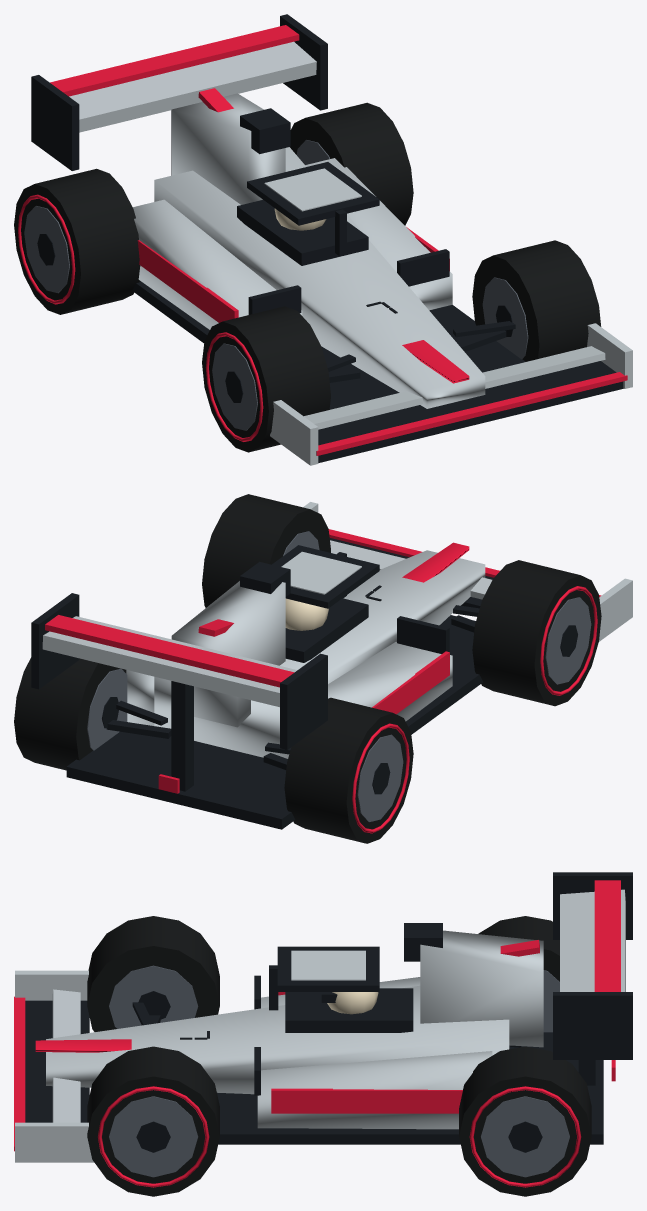
Rendered from apex-07.glb.
The picture shows the model from 3 angles, top to bottom: view 1: azimuth 30°, elevation 25°; view 2: azimuth 150°, elevation 25°; view 3: azimuth 270°, elevation 25°; orthographic projection.
Parts seen in each view (by area): view 1: formula-7, wheel (×4); view 2: formula-7, wheel (×4); view 3: formula-7, wheel (×4).
Part boxes in pixels (<box>): formula-7: <box>31,14,632,465</box>; wheel (×4): <box>14,102,601,452</box>; formula-7: <box>31,502,632,829</box>; wheel (×4): <box>14,494,601,843</box>; formula-7: <box>14,872,632,1162</box>; wheel (×4): <box>87,916,591,1196</box>.
Bounding box in the file's own units: 3.37 × 1.79 × 5.41.
